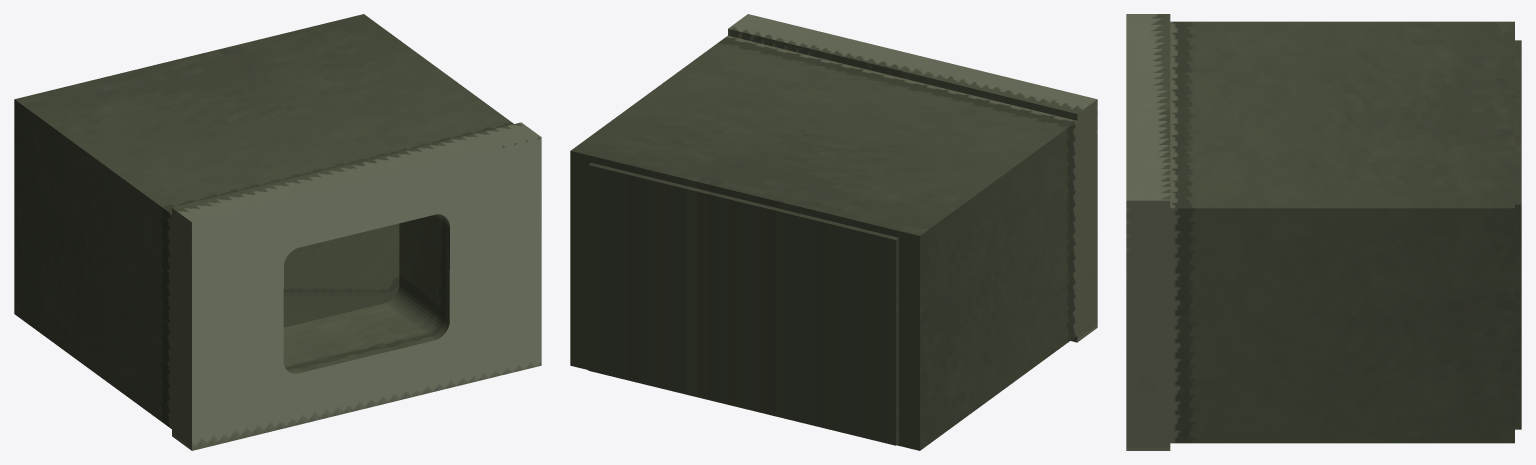
File: pz_counter_green_floor__sink_inset_rect.obj
The picture shows the model from 3 angles, left to right: view 1: azimuth 30°, elevation 25°; view 2: azimuth 150°, elevation 25°; view 3: azimuth 270°, elevation 25°; orthographic projection. The views are drawn at different scales.
Bounding box in the file's own units: 1 × 0.6266 × 0.895.
1 material, 1 textured.
